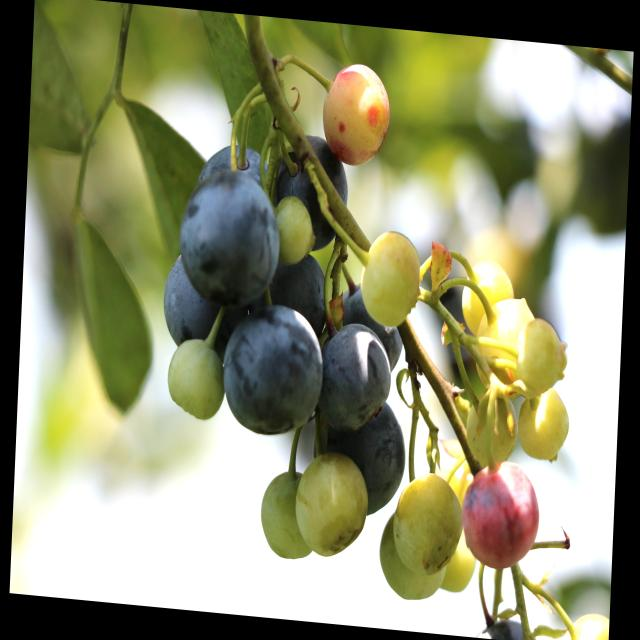blueberry: (176, 165, 284, 307), (220, 296, 325, 438), (312, 408, 404, 510), (316, 316, 398, 430), (274, 250, 336, 324)
blueberry-halfripe: (458, 458, 544, 573), (318, 59, 391, 172)
blueberry-unripe: (292, 447, 366, 564), (392, 468, 463, 577), (354, 220, 421, 330), (372, 508, 446, 604), (476, 288, 533, 401), (257, 465, 319, 566), (514, 312, 574, 404), (165, 332, 226, 421), (460, 254, 514, 340), (463, 386, 521, 462), (269, 189, 320, 272), (520, 388, 570, 464)
